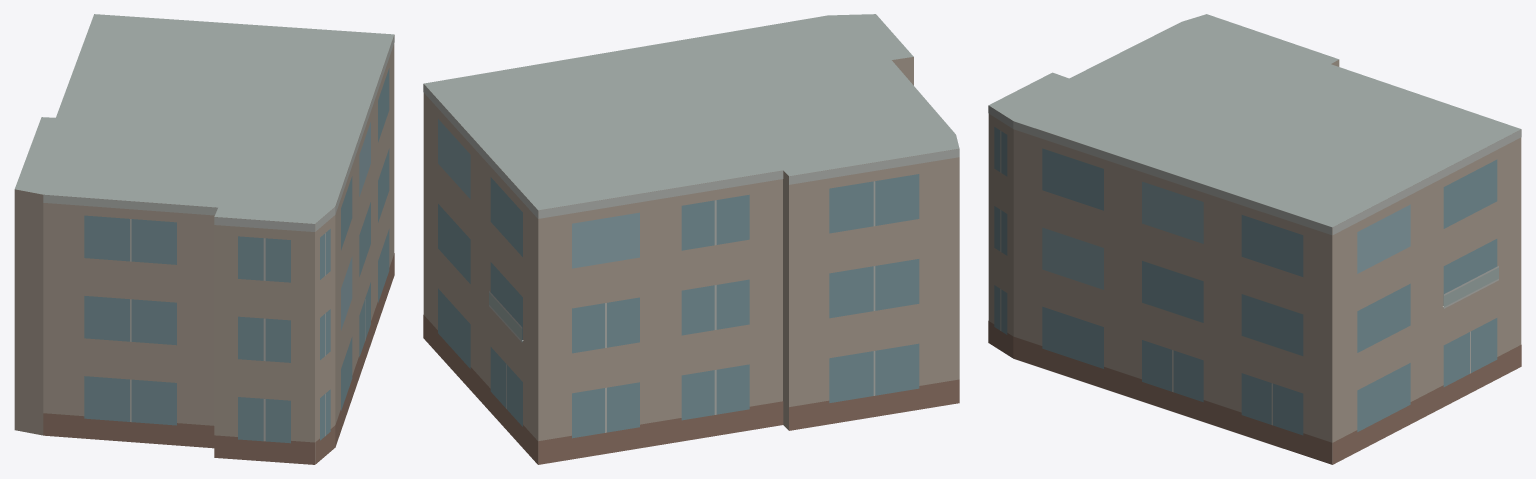
Rendered from survey-upis-32946549.glb.
3 renders of one model, left to right at view 1: azimuth 30°, elevation 25°; view 2: azimuth 150°, elevation 25°; view 3: azimuth 270°, elevation 25°, orthographic. The views are drawn at different scales.
Visible parts, largest first — view 1: survey-upis-32946549.tmp; view 2: survey-upis-32946549.tmp; view 3: survey-upis-32946549.tmp.
Boxes of the visible parts, bbox=[...] form: survey-upis-32946549.tmp: bbox=[14, 14, 394, 464]; survey-upis-32946549.tmp: bbox=[423, 14, 959, 464]; survey-upis-32946549.tmp: bbox=[988, 14, 1521, 464].
Bounding box in the file's own units: 13.88 × 7.2 × 14.65.
